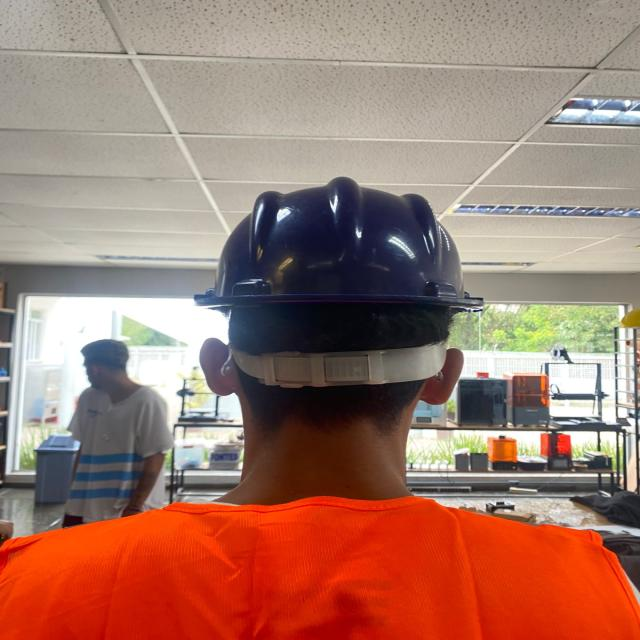CAPACETE: (180, 170, 496, 384)
COLETE: (7, 490, 639, 640)
